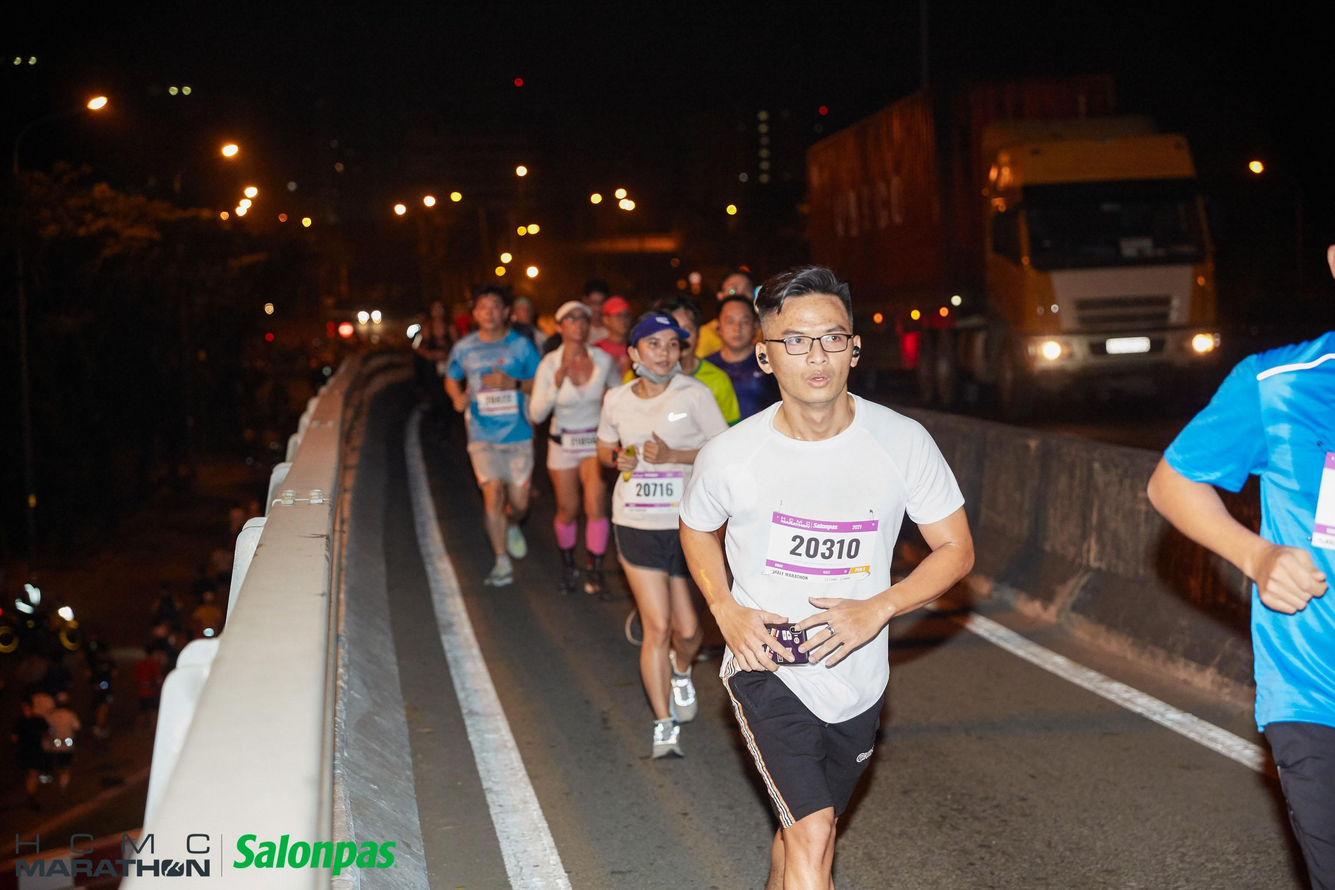bib: (770, 510, 879, 590), (628, 475, 683, 516), (474, 392, 523, 415), (559, 431, 599, 452)
